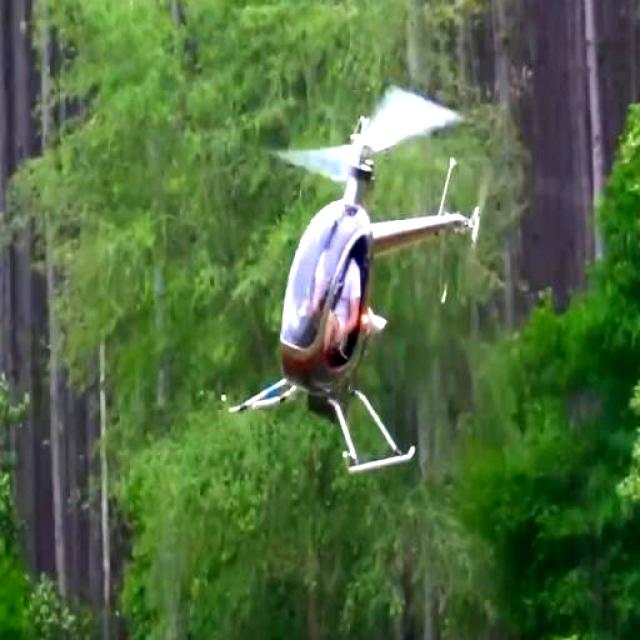drone: (219, 81, 488, 494)
